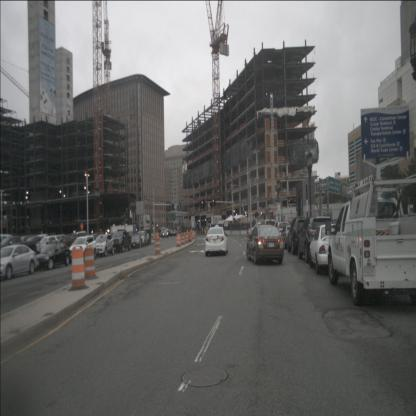movable_object-barrier: (223, 230, 231, 235), (240, 230, 248, 235), (231, 231, 240, 235)
movable_object-trafficcone: (68, 245, 90, 292), (84, 245, 98, 280), (154, 236, 160, 255), (176, 233, 180, 247), (181, 233, 185, 245), (185, 232, 188, 244), (188, 231, 191, 242), (248, 228, 251, 237), (192, 231, 195, 239), (190, 231, 192, 241), (204, 229, 207, 235)
vehicle-bus-rigid: (161, 227, 166, 238)
vehicle-car: (308, 224, 346, 274), (298, 216, 334, 262), (246, 224, 284, 265), (0, 244, 39, 280), (287, 218, 313, 256), (35, 243, 71, 270), (68, 235, 97, 262), (205, 227, 228, 256), (36, 235, 65, 256), (0, 236, 27, 257), (93, 234, 115, 256), (21, 236, 49, 253), (280, 224, 296, 249), (0, 233, 18, 250), (60, 235, 79, 250), (275, 222, 289, 242), (263, 219, 278, 237), (136, 231, 148, 246), (130, 234, 142, 249), (144, 232, 152, 244), (162, 230, 168, 238), (175, 229, 181, 236), (172, 229, 177, 236), (168, 229, 172, 236)
vehicle-truck: (328, 197, 416, 305), (111, 230, 131, 254)
